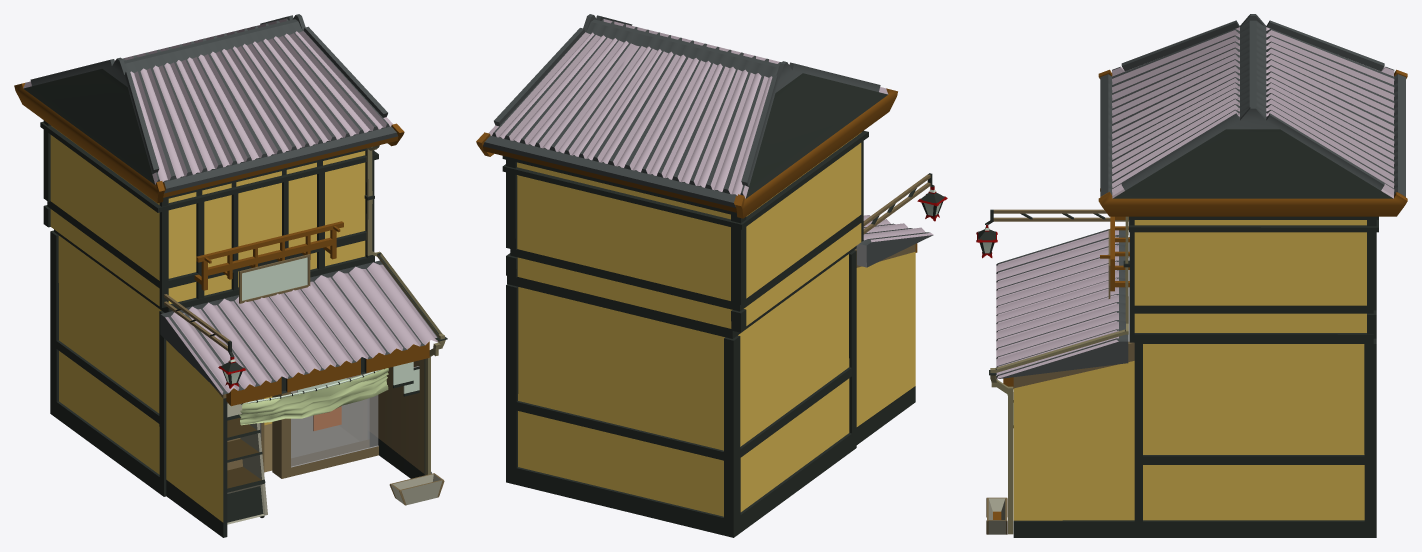
Rendered from Comercio_1.3.fbx.
3 views of the same model, side by side, from view 1: azimuth 30°, elevation 25°; view 2: azimuth 150°, elevation 25°; view 3: azimuth 270°, elevation 25° (orthographic). The views are drawn at different scales.
Visible parts, largest first — view 1: pCube31; view 2: pCube31; view 3: pCube31.
Part boxes in pixels (<box>): pCube31: <box>14,14,447,537</box>; pCube31: <box>476,14,947,537</box>; pCube31: <box>976,14,1407,537</box>.
Size of the model in its own units: 5.02 by 7.71 by 7.18.
